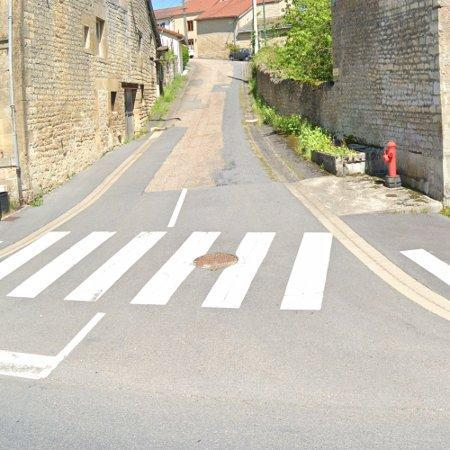crosswalks: (0, 230, 334, 312)
